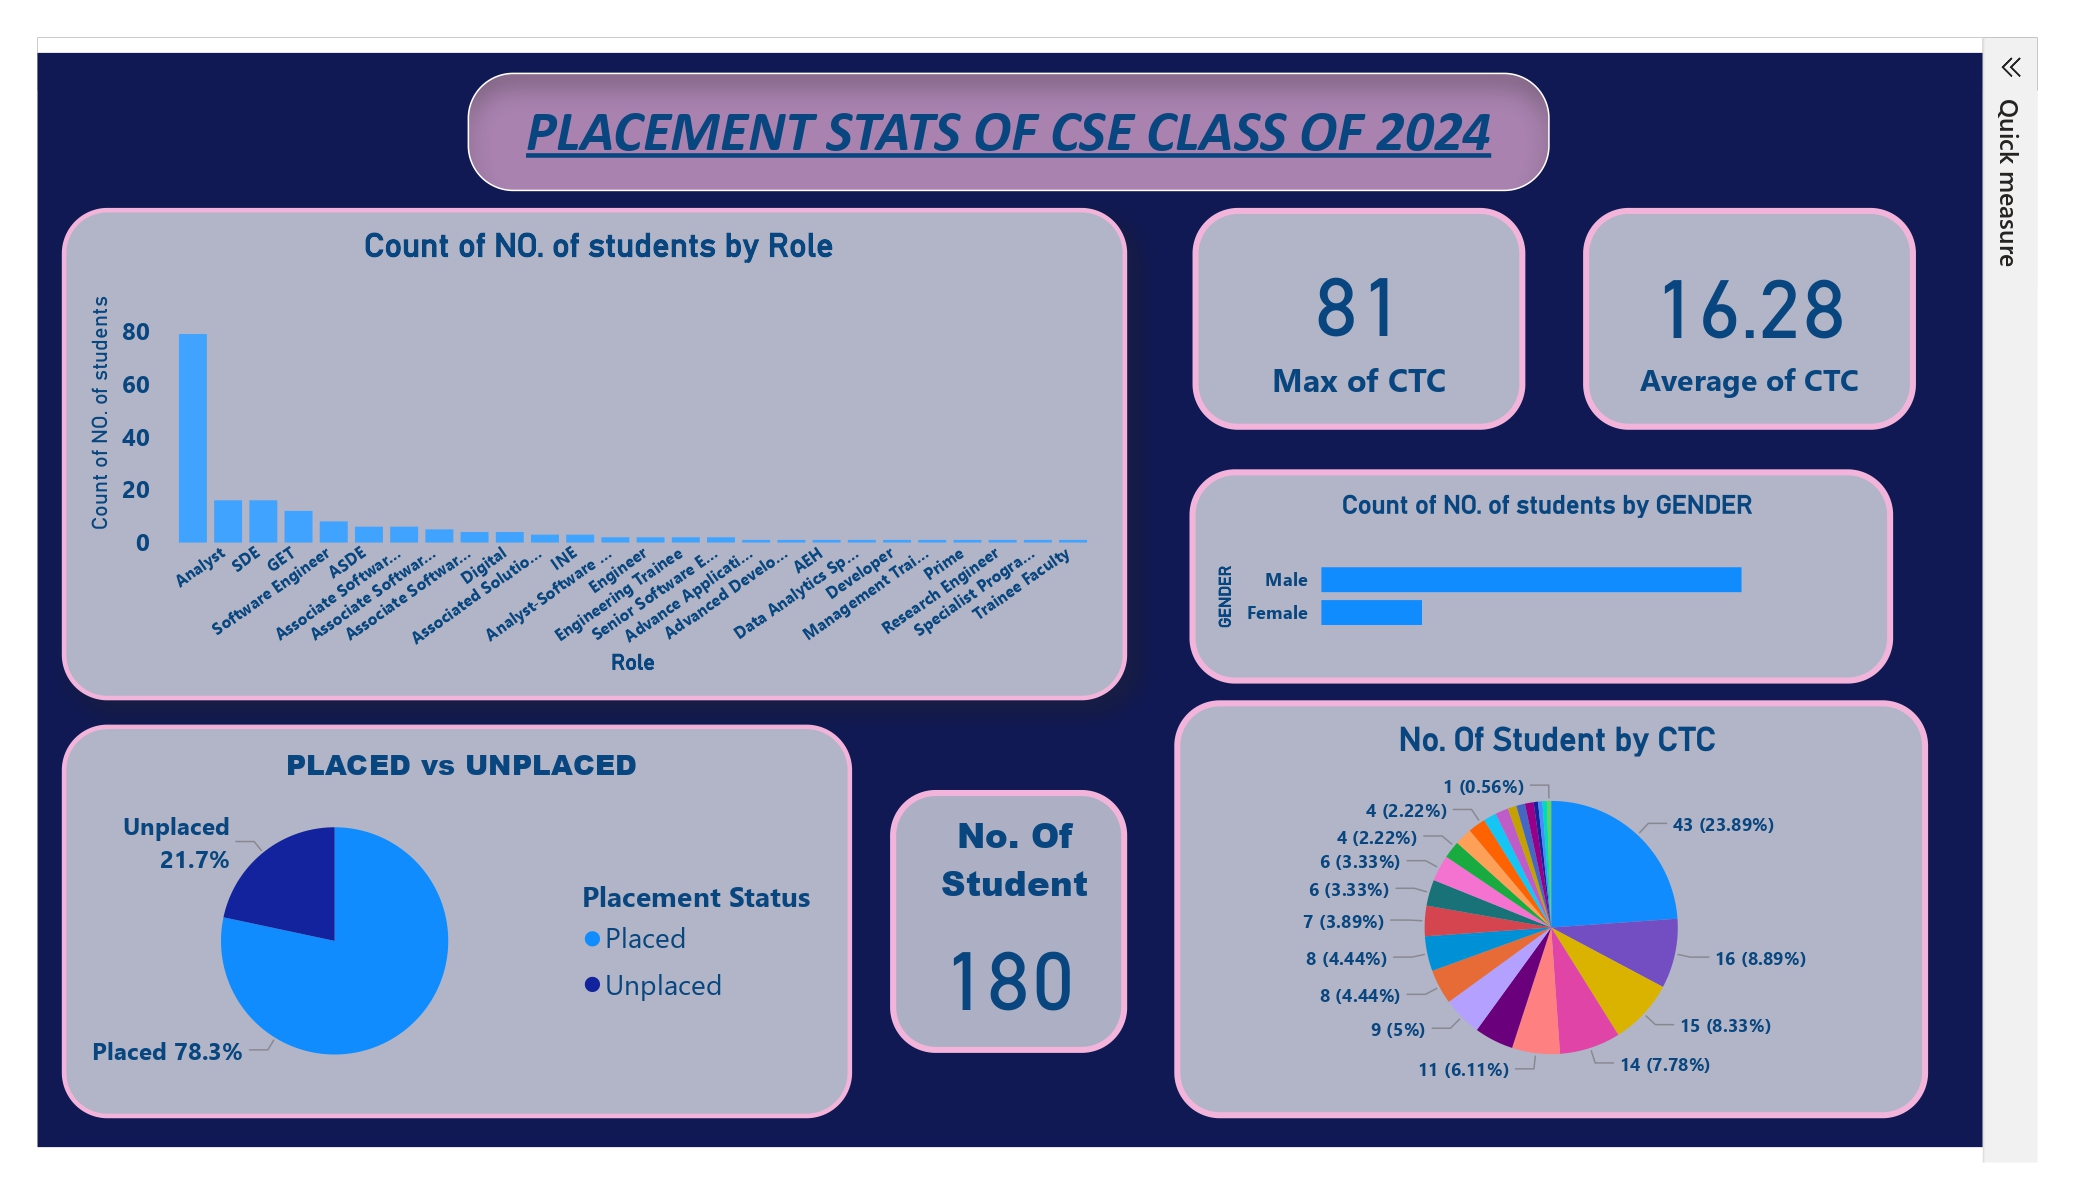

The page's visual inventory and layout, read from the dashboard file:
{"tool":"powerbi","page":{"name":"Page 1","canvas":[1280,720],"ordinal":0},"visuals":[{"type":"textbox","box":[282.6,12.8,712.8,77.9],"z":0},{"type":"pieChart","title":"PLACED vs UNPLACED","fields":{"Category":["CSE Placement 2024 (2) 2(Sheet1) (1).Placement Status"],"Y":["CountNonNull(CSE Placement 2024 (2) 2(Sheet1) (1).NO. of students)"]},"box":[16.1,441.9,519.8,259.2],"z":1000},{"type":"columnChart","fields":{"Y":["CountNonNull(CSE Placement 2024 (2) 2(Sheet1) (1).NO. of students)"],"Category":["CSE Placement 2024 (2) 2(Sheet1) (1).Role"]},"box":[16.1,102.1,701.1,323.7],"z":2000},{"type":"card","fields":{"Values":["Max(CSE Placement 2024 (2) 2(Sheet1) (1).CTC)"]},"box":[760.2,102.1,218.9,146.4],"z":3000},{"type":"card","fields":{"Values":["Avg(CSE Placement 2024 (2) 2(Sheet1) (1).CTC)"]},"box":[1016.7,102.1,218.9,146.4],"z":4000},{"type":"card","title":"No. Of Student","fields":{"Values":["CountNonNull(CSE Placement 2024 (2) 2(Sheet1) (1).NO. of students)"]},"box":[561.4,484.9,155.8,173.3],"z":5000},{"type":"pieChart","title":" No. Of Student by CTC","fields":{"Category":["CSE Placement 2024 (2) 2(Sheet1) (1).CTC"],"Y":["CountNonNull(CSE Placement 2024 (2) 2(Sheet1) (1).NO. of students)"]},"box":[748.1,425.8,495.6,275.3],"z":6000},{"type":"barChart","fields":{"Category":["CSE Placement 2024 (2) 2(Sheet1) (1).GENDER"],"Y":["CountNonNull(CSE Placement 2024 (2) 2(Sheet1) (1).NO. of students)"]},"box":[757.5,274,463.4,141],"z":6001}]}

Visuals, with their boxes on the page's 1280x720 design canvas (x1, y1, x2, y2). These are canvas units, not pixel positions in the 2075x1200 screenshot, which may show the page scaled, cropped or inside an application window:
textbox: x1=283 y1=13 x2=995 y2=91
"PLACED vs UNPLACED" pieChart: x1=16 y1=442 x2=536 y2=701
columnChart - CountNonNull(CSE Placement 2024 (2) 2(Sheet1) (1).NO. of students) x CSE Placement 2024 (2) 2(Sheet1) (1).Role: x1=16 y1=102 x2=717 y2=426
card - Max(CSE Placement 2024 (2) 2(Sheet1) (1).CTC): x1=760 y1=102 x2=979 y2=248
card - Avg(CSE Placement 2024 (2) 2(Sheet1) (1).CTC): x1=1017 y1=102 x2=1236 y2=248
"No. Of Student" card: x1=561 y1=485 x2=717 y2=658
" No. Of Student by CTC" pieChart: x1=748 y1=426 x2=1244 y2=701
barChart - CSE Placement 2024 (2) 2(Sheet1) (1).GENDER x CountNonNull(CSE Placement 2024 (2) 2(Sheet1) (1).NO. of students): x1=758 y1=274 x2=1221 y2=415
